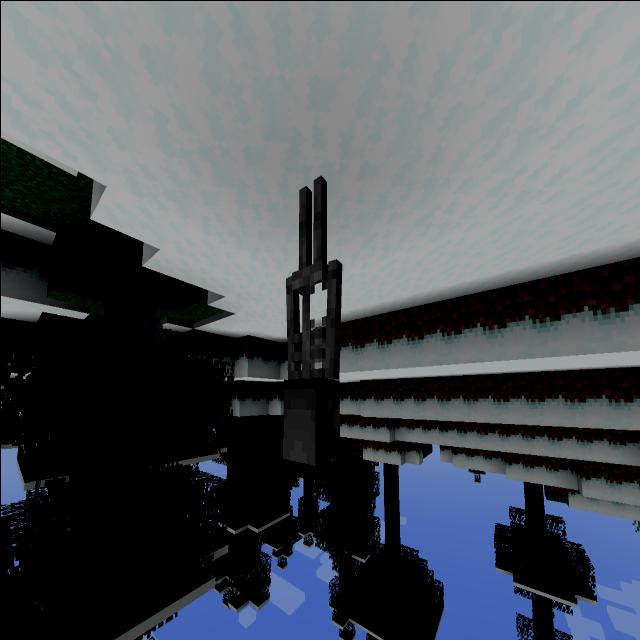Skeleton: (273, 158, 354, 478)
